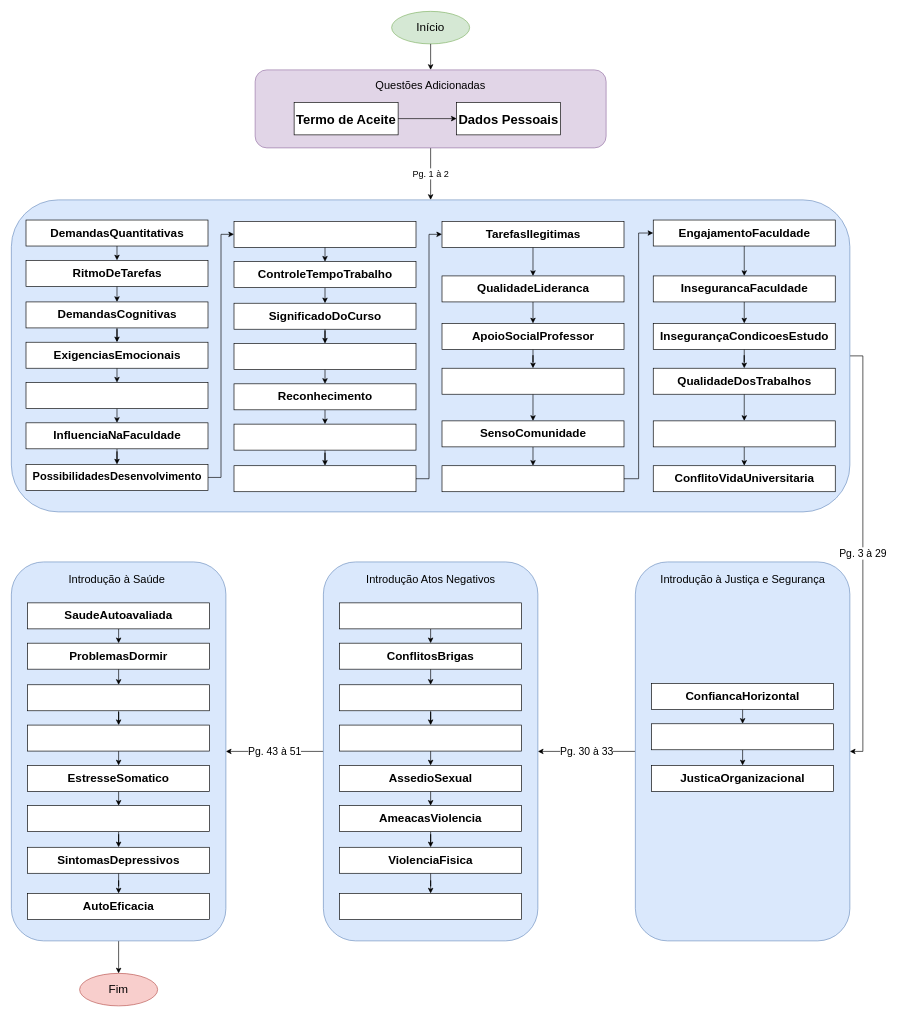
The diagram is 898 pixels wide and 1017 high, and some of its shapes have lost their labels. The box of each missing label's shape, as (x1, y1, x2, y2) in pixels:
ApoioSocialColegas: (441, 368, 624, 394)
AssedioMoral: (339, 893, 522, 919)
ClarezaDoCurso: (233, 423, 416, 450)
CompromissoComFaculdade: (441, 465, 624, 492)
ConfiancaVertical: (651, 723, 834, 750)
ConflitosDeFuncao: (233, 465, 416, 492)
Cyberbullying: (339, 724, 522, 751)
Esgotamento: (27, 684, 210, 711)
Estresse: (27, 724, 210, 751)
EstresseCognifitivo: (27, 805, 210, 832)
ExigenciasEsconderEmocoes: (25, 382, 208, 409)
FofocasCalunias: (339, 602, 522, 629)
Previsibilidade: (233, 343, 416, 370)
ProvocacaoDesagradavel: (339, 684, 522, 711)
SatisfacaoFaculdade: (653, 420, 835, 447)
VariacaoDeTrabalhos: (233, 221, 416, 247)
